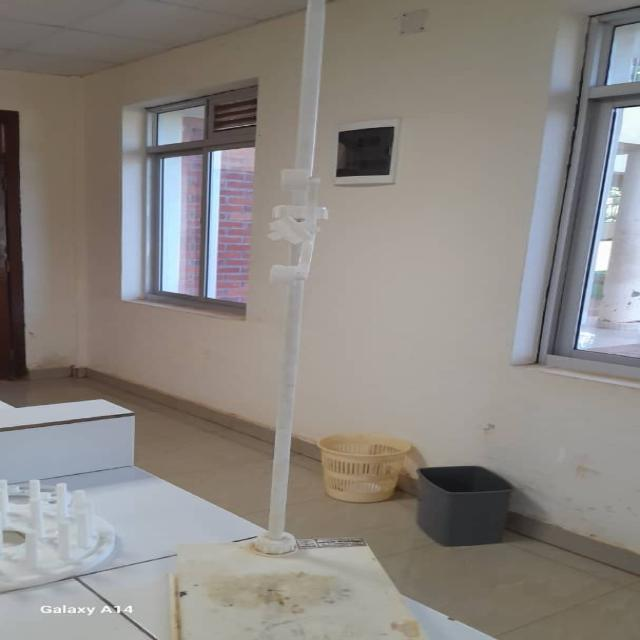Stand: (177, 8, 411, 623)
